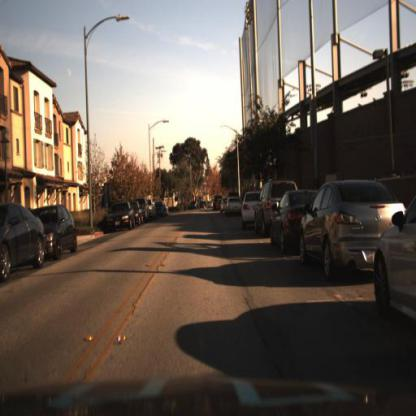car: (295, 172, 381, 284), (372, 194, 416, 339), (1, 201, 48, 284), (268, 189, 321, 254), (270, 186, 306, 268), (41, 197, 81, 267), (102, 198, 136, 240), (254, 184, 276, 242), (237, 183, 261, 236)
